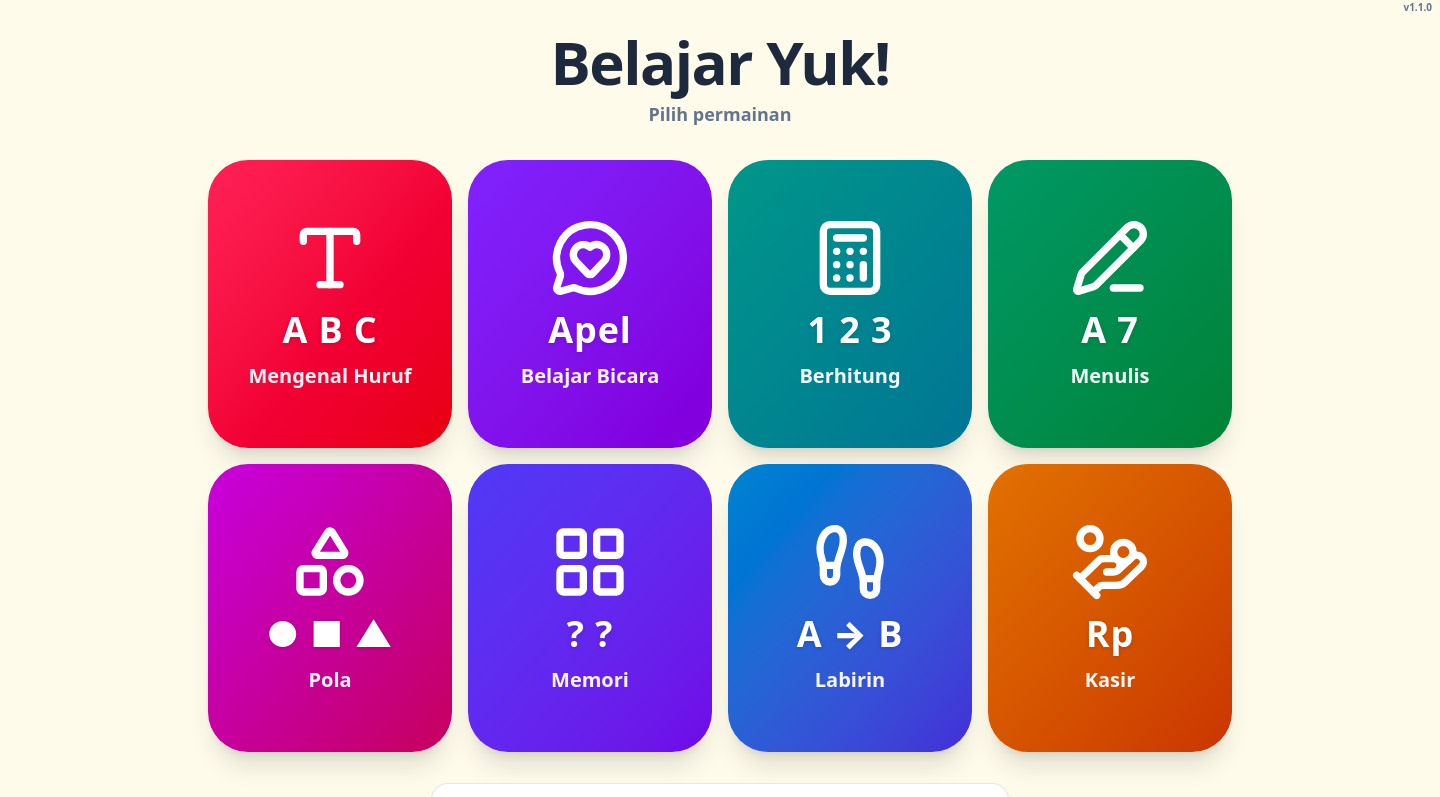
Test: Pola › choosing the kind › goes home from the choosing screen
The image size is (1440, 797).
Click the button "● ■ ▲ Pola": (330, 608) left=208, top=464, right=452, bottom=752
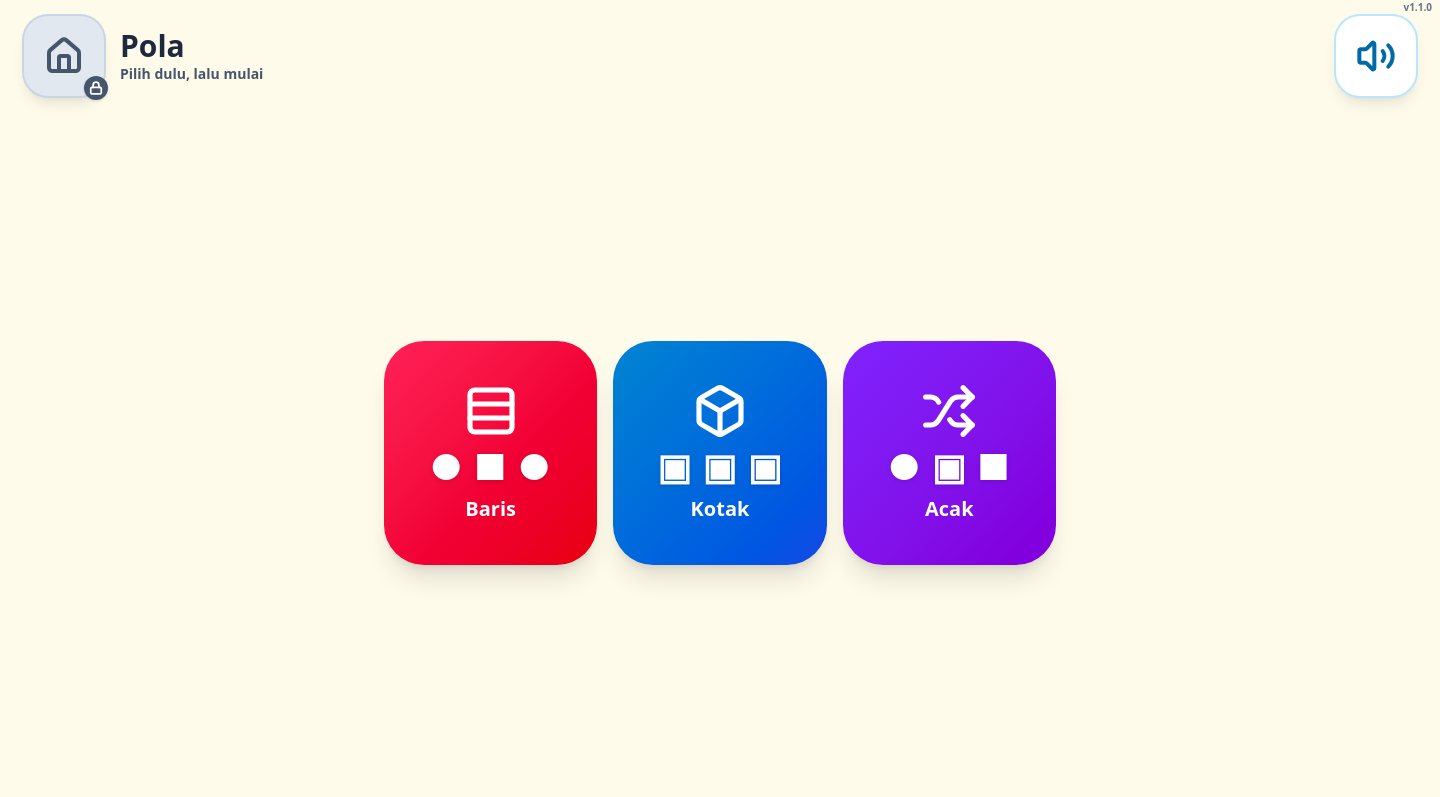
Click the button named "Kembali ke menu utama": (64, 56) left=24, top=16, right=104, bottom=96
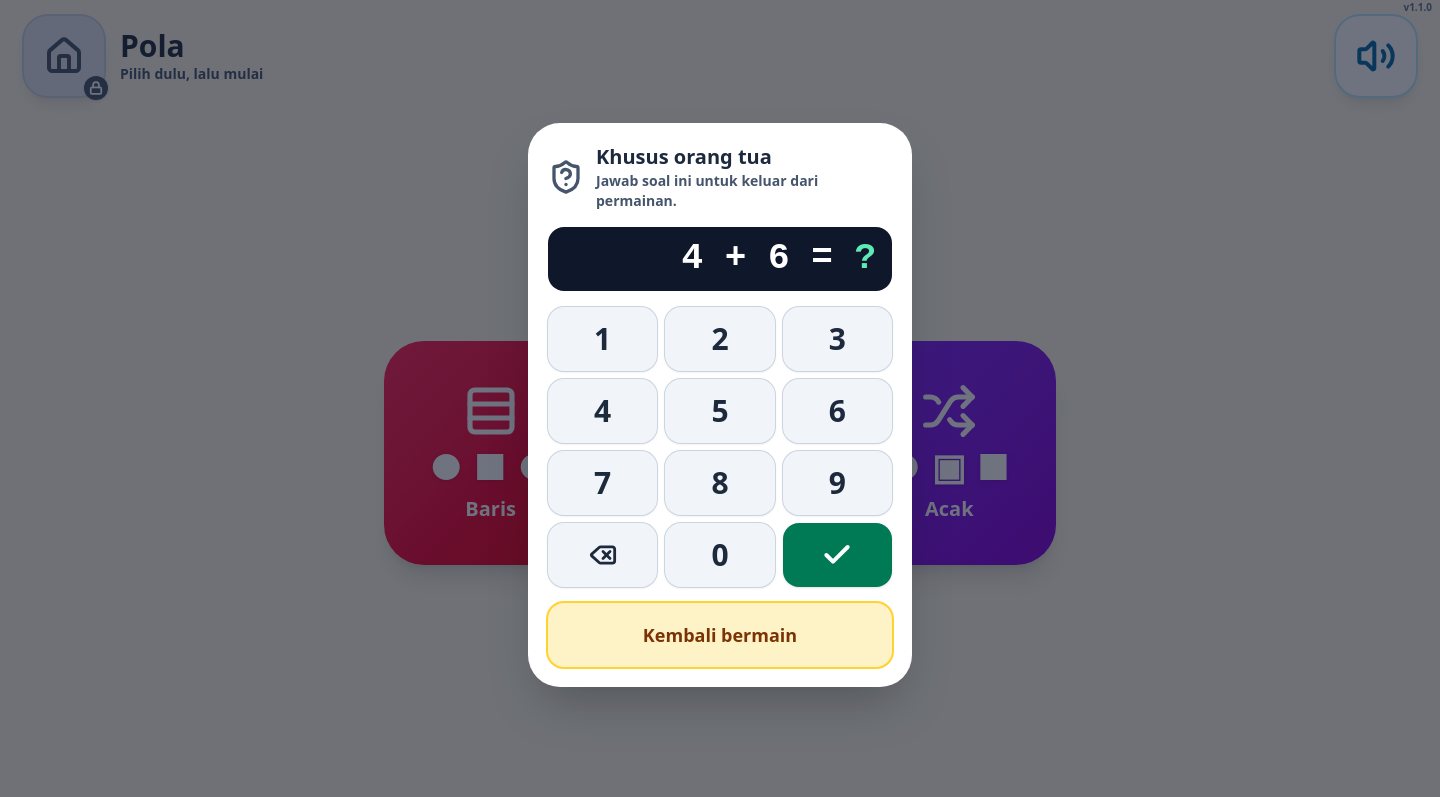
Click the button "1": (603, 339) left=548, top=307, right=657, bottom=371
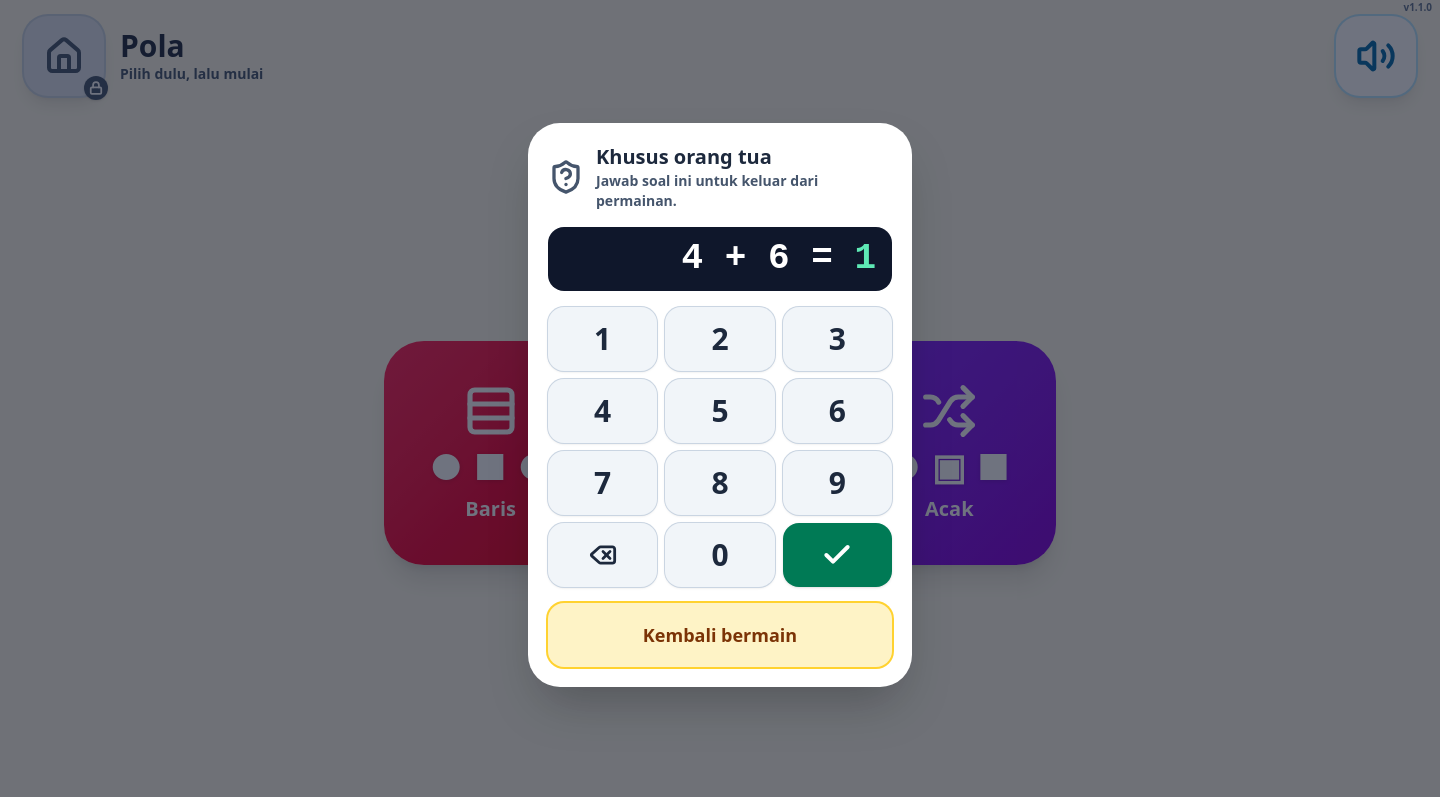
Click the button "0": (720, 555) left=665, top=523, right=775, bottom=587
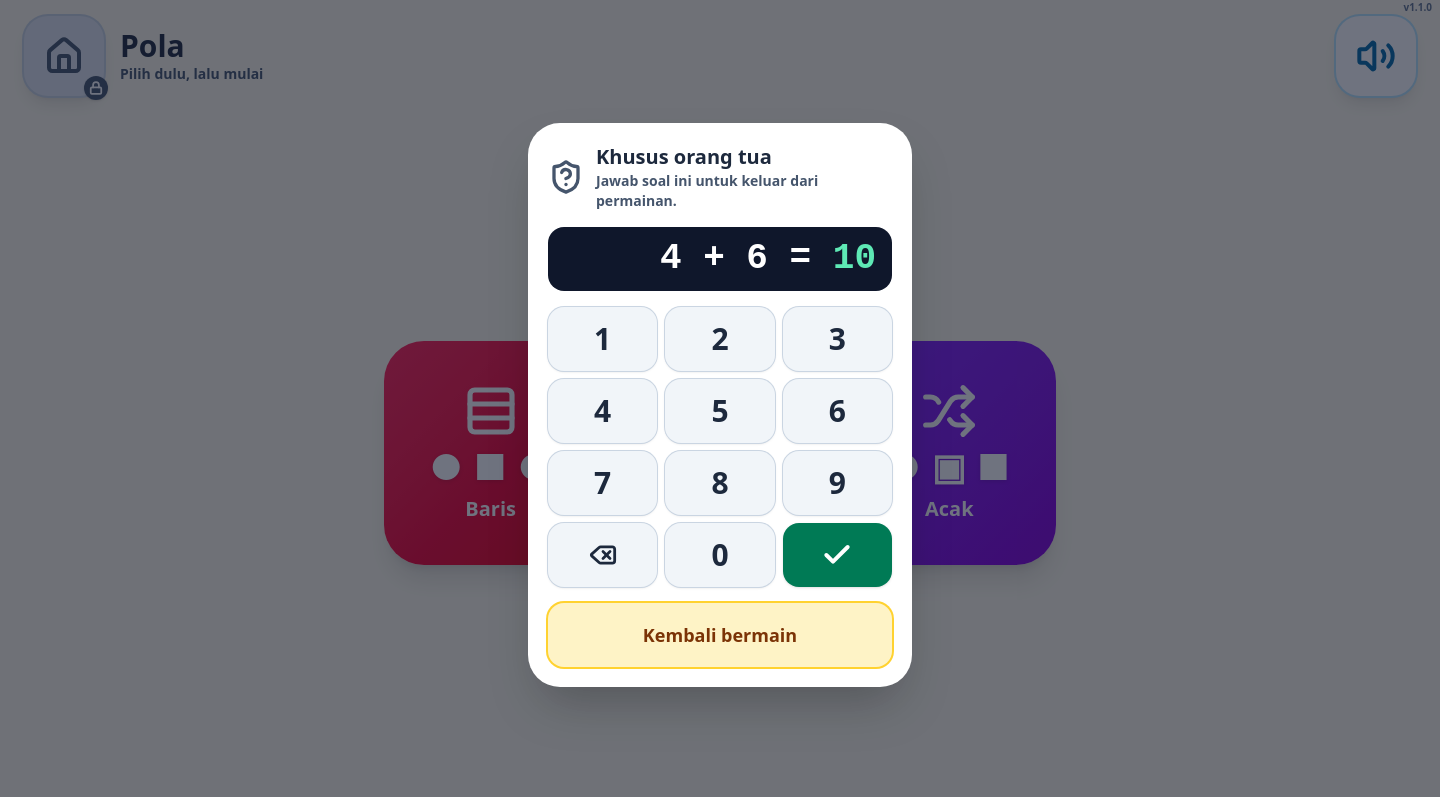
Click the button named "Periksa jawaban": (837, 555) left=783, top=523, right=892, bottom=587
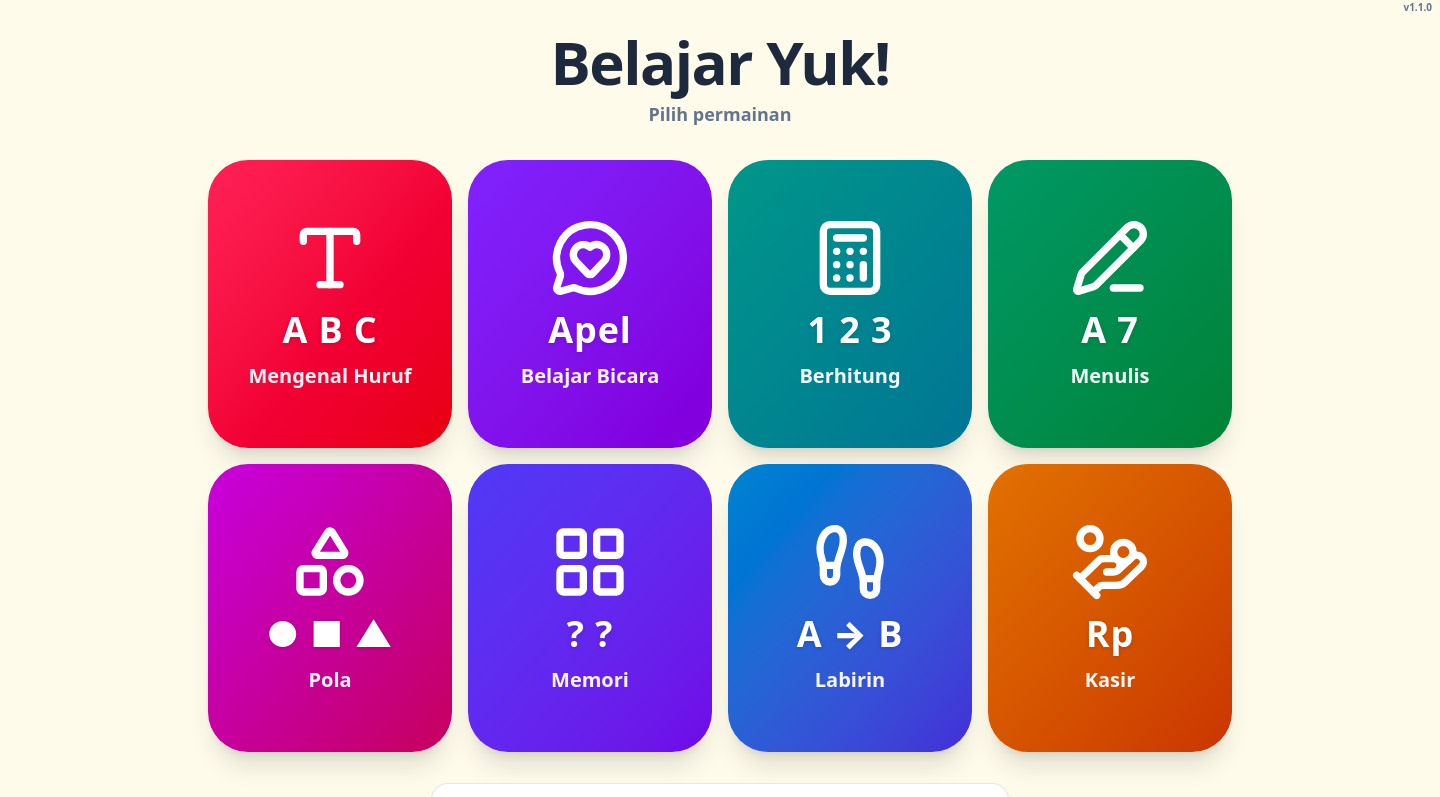
Result: the heading "Belajar Yuk!" is shown at left=550, top=32, right=890, bottom=92
